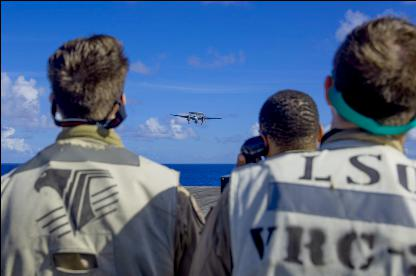C5: (168, 110, 222, 126)
